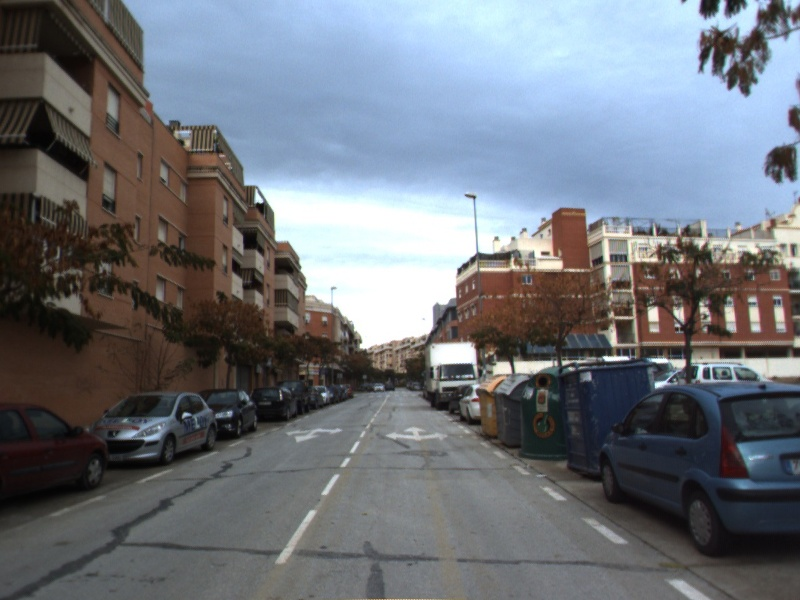STRAIGHT_LEFT_RIGHT: (383, 424, 450, 443)
